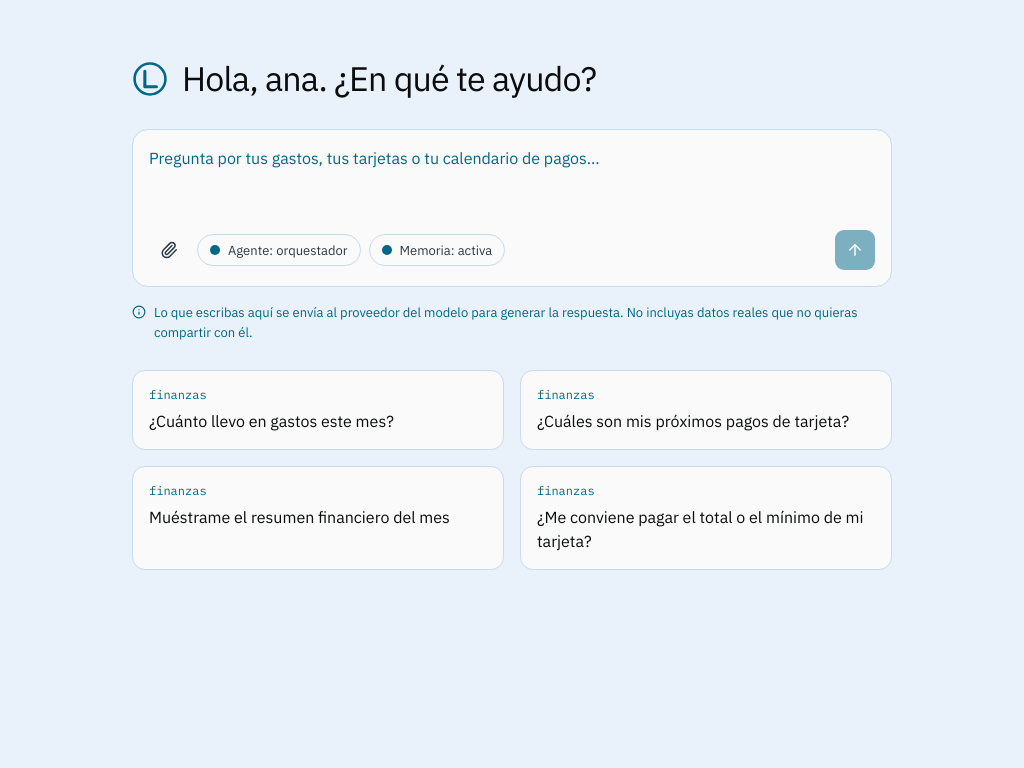
Test: ChatPage · enviar un mensaje › si la respuesta quedó a medias no ofrece reenviar (evita duplicar)
Replace the text in the text box named "Mensaje para Lara" with "Hola" at [512, 182], box [149,146,875,218]
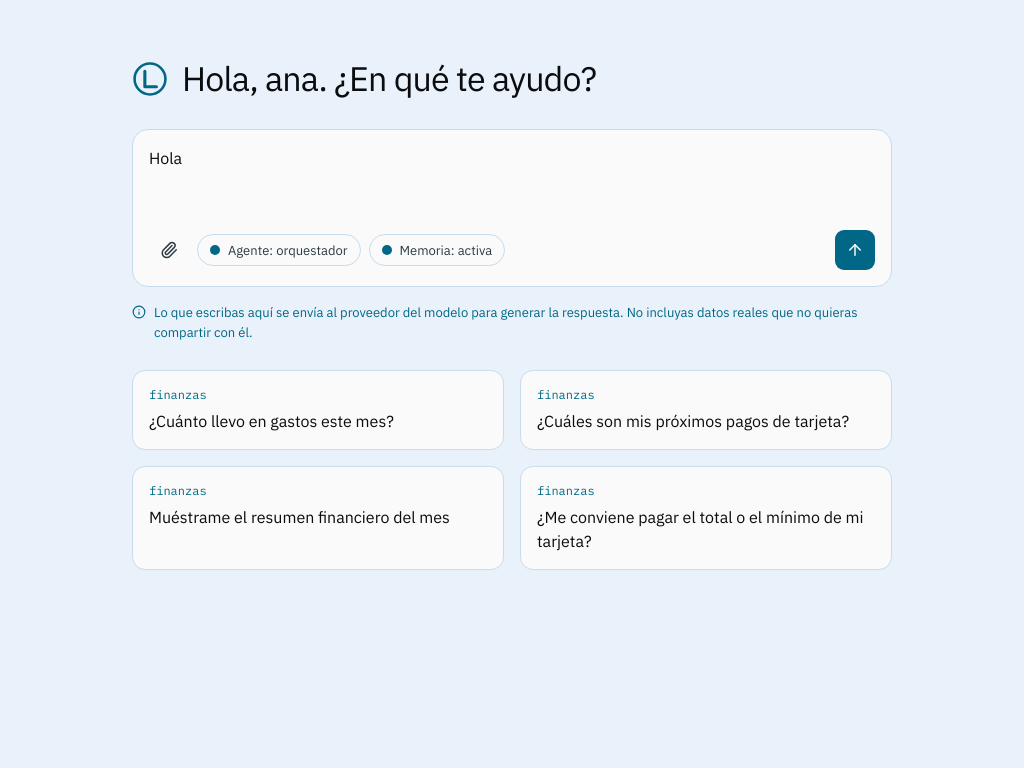
Click the button named "Enviar" at [855, 250], box [835,230,875,270]
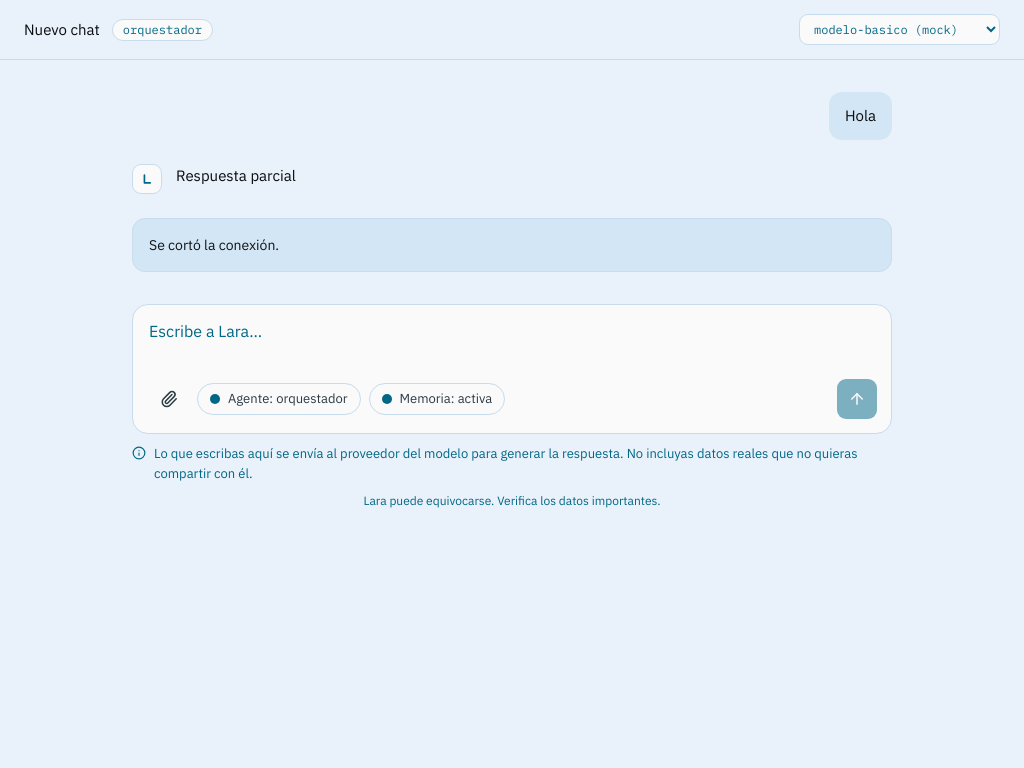
expect the message reads "Se cortó la conexión.": met, box [149,236,279,254]
